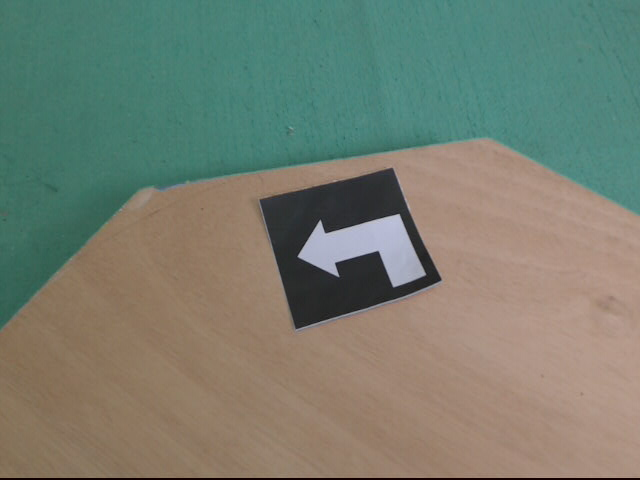left: (257, 166, 445, 336)
